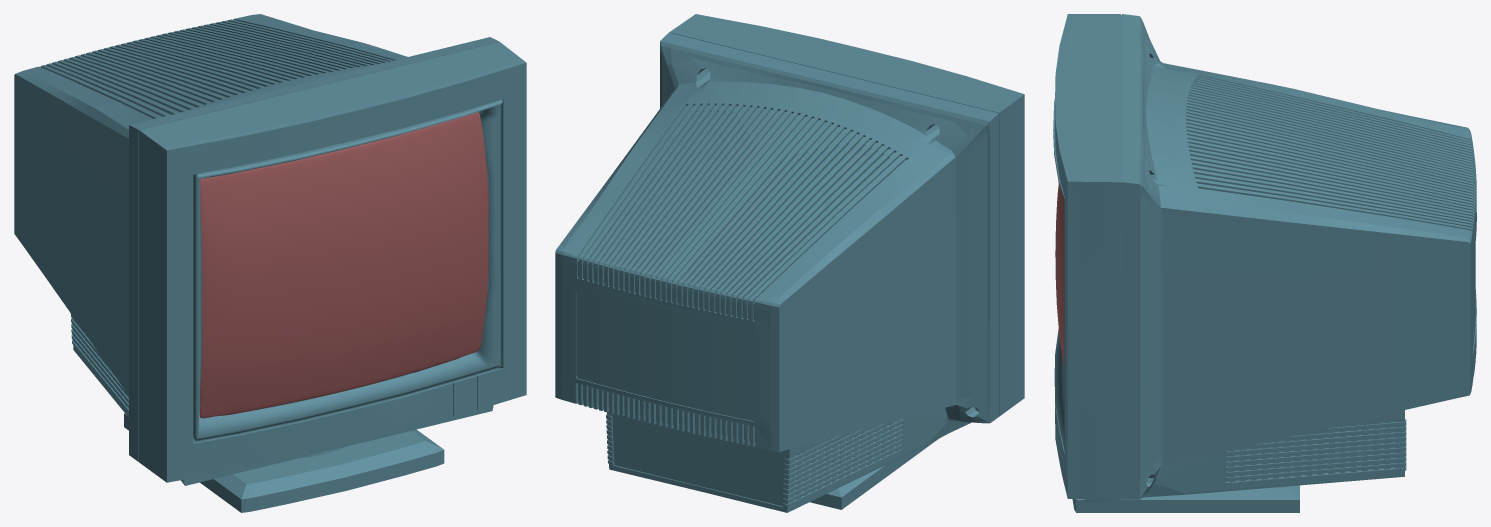
File: Computer_Gen_1_Monitor.fbx
The picture shows the model from 3 angles, left to right: view 1: azimuth 30°, elevation 25°; view 2: azimuth 150°, elevation 25°; view 3: azimuth 270°, elevation 25°; orthographic projection. The views are drawn at different scales.
Visible parts, largest first — view 1: mesh_monitor, mesh_screen; view 2: mesh_monitor; view 3: mesh_monitor, mesh_screen.
Part boxes in pixels (box(x1,y1,x2,y2)): mesh_monitor: box(14, 14, 526, 512); mesh_screen: box(200, 112, 488, 418); mesh_monitor: box(555, 14, 1024, 512); mesh_monitor: box(1053, 14, 1476, 512); mesh_screen: box(1055, 183, 1064, 367).
Bounding box in the file's own units: 40.31 × 41.07 × 42.9.
